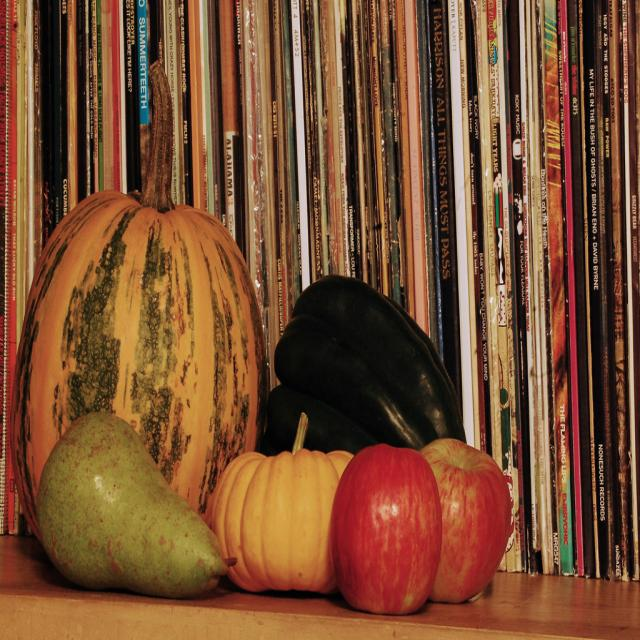pear: (36, 406, 226, 596)
